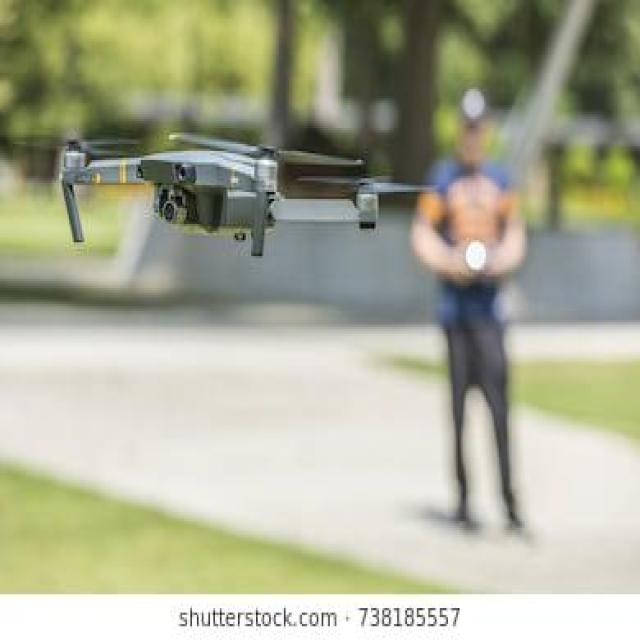drone: (15, 109, 446, 274)
